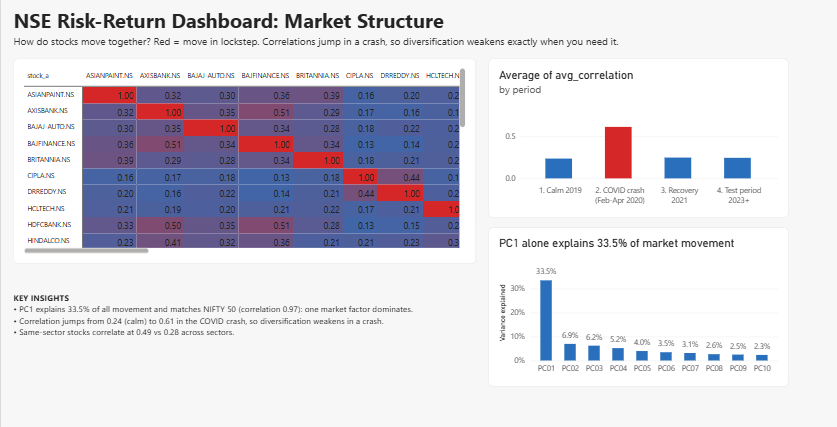

What the dashboard file says about the page in this screenshot:
{"tool":"powerbi","page":{"name":"Market Structure","canvas":[1920,1080],"ordinal":1},"visuals":[{"type":"textbox","box":[20,15,1240,45],"z":0},{"type":"textbox","box":[20,60,1240,28],"z":1000},{"type":"clusteredColumnChart","fields":{"Category":["stress_correlation.period"],"Y":["Avg(stress_correlation.avg_correlation)"]},"box":[780,100,480,255],"z":2000},{"type":"clusteredColumnChart","title":"PC1 alone explains 33.5% of market movement","fields":{"Category":["pca_variance.component"],"Y":["Avg(pca_variance.variance_explained)"]},"box":[780,370,480,255],"z":3000},{"type":"pivotTable","fields":{"Columns":["correlation_long.stock_b"],"Rows":["correlation_long.stock_a"],"Values":["Avg(correlation_long.correlation)"]},"box":[20,100,740,329],"z":4000},{"type":"textbox","box":[20.9,471.7,665.7,93.9],"z":5000},{"type":"textbox","box":[21,718,666,150],"z":6000}]}

Visuals, with their boxes on the page's 1920x1080 design canvas (x1, y1, x2, y2). These are canvas units, not pixel positions in the 837x427 screenshot, which may show the page scaled, cropped or inside an application window:
textbox: x1=20, y1=15, x2=1260, y2=60
textbox: x1=20, y1=60, x2=1260, y2=88
clusteredColumnChart - stress_correlation.period x Avg(stress_correlation.avg_correlation): x1=780, y1=100, x2=1260, y2=355
"PC1 alone explains 33.5% of market movement" clusteredColumnChart: x1=780, y1=370, x2=1260, y2=625
pivotTable - correlation_long.stock_b x correlation_long.stock_a: x1=20, y1=100, x2=760, y2=429
textbox: x1=21, y1=472, x2=687, y2=566
textbox: x1=21, y1=718, x2=687, y2=868
